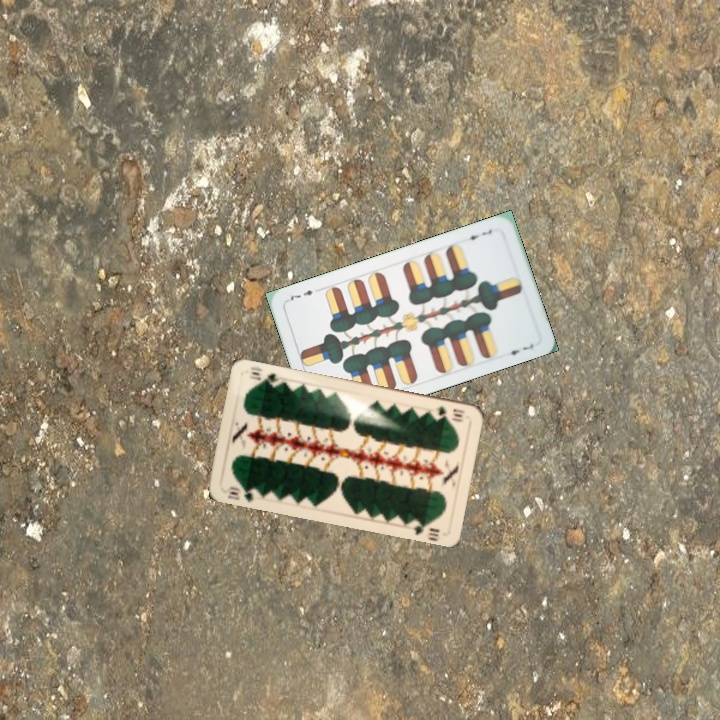E7: (461, 225, 495, 243)
G10: (220, 482, 262, 505), (432, 402, 468, 423)
